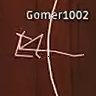hacks_2: (13, 30, 84, 59)
